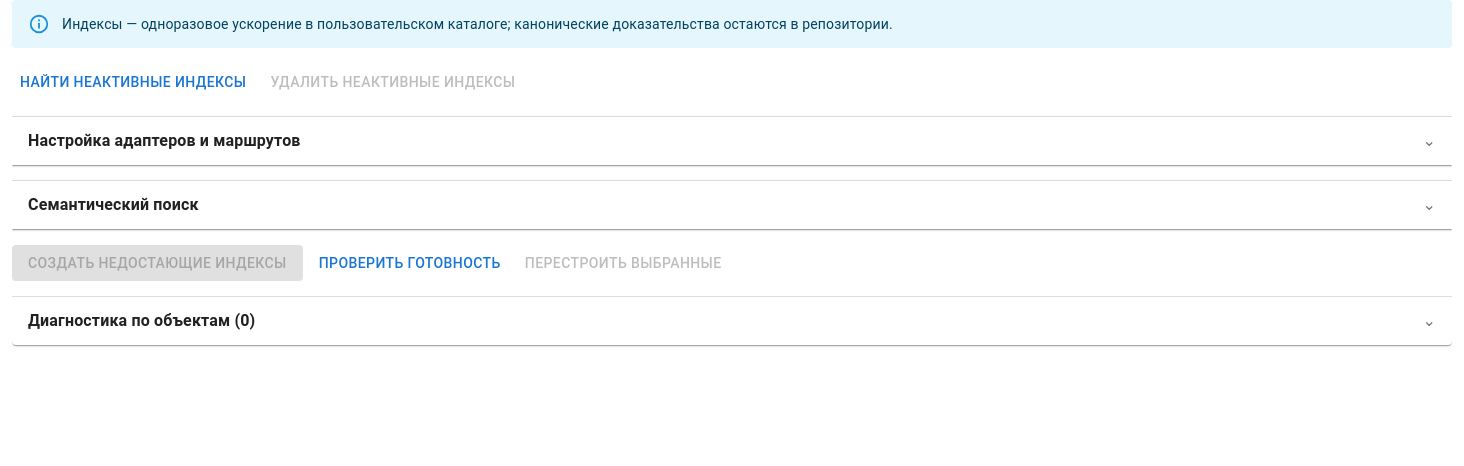
Test: index cleanup preview explains removable copies without raw JSON
Click the button "Найти неактивные индексы" at (133, 82), box [12,64,254,100]
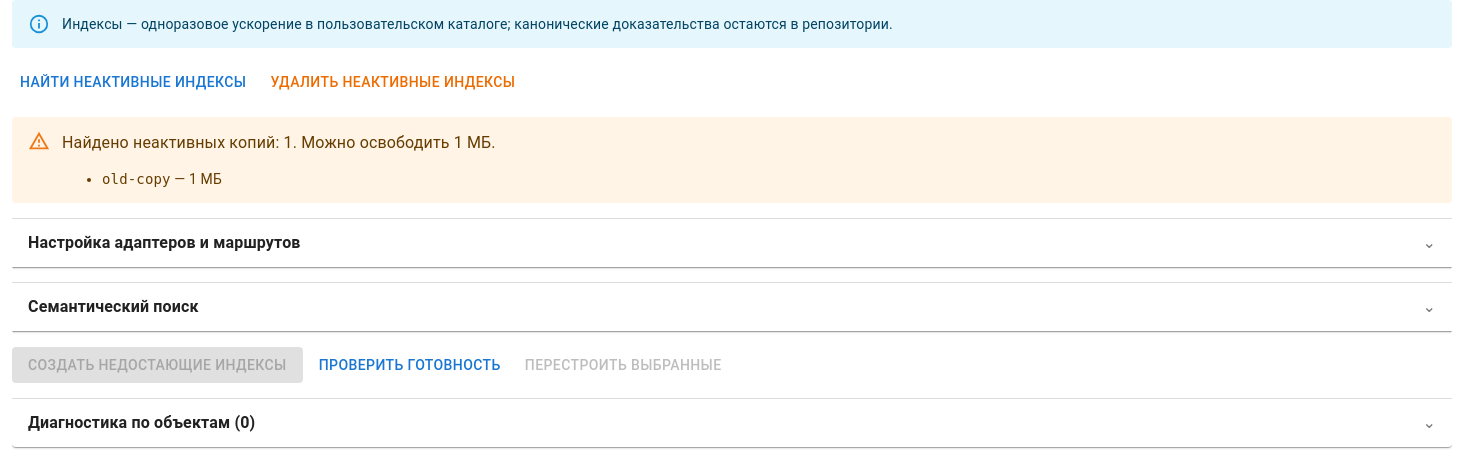
Result: the text "Найдено неактивных копий: 1. Можно освободить 1 МБ." is shown at [62,130,496,154]
Result: the text "old-copy" is shown at [102,170,171,186]
Result: the button "Удалить неактивные индексы" is enabled at [262,64,523,100]
